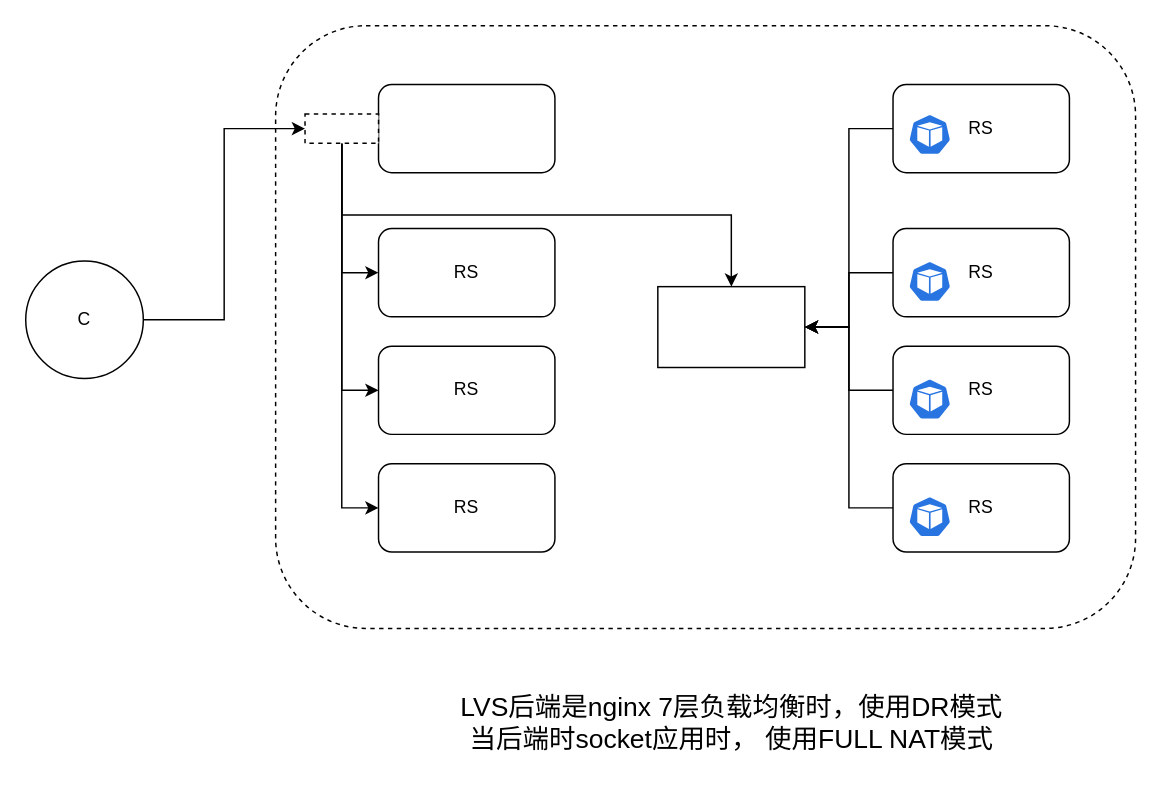
The diagram is 1161 pixels wide and 801 high, and some of its shapes have lost their labels. Here are the shapes that lost their labels. From the top down, the centre of each, then its label:
pixel 341 127: VIP
pixel 466 128: DR
pixel 730 326: SW
